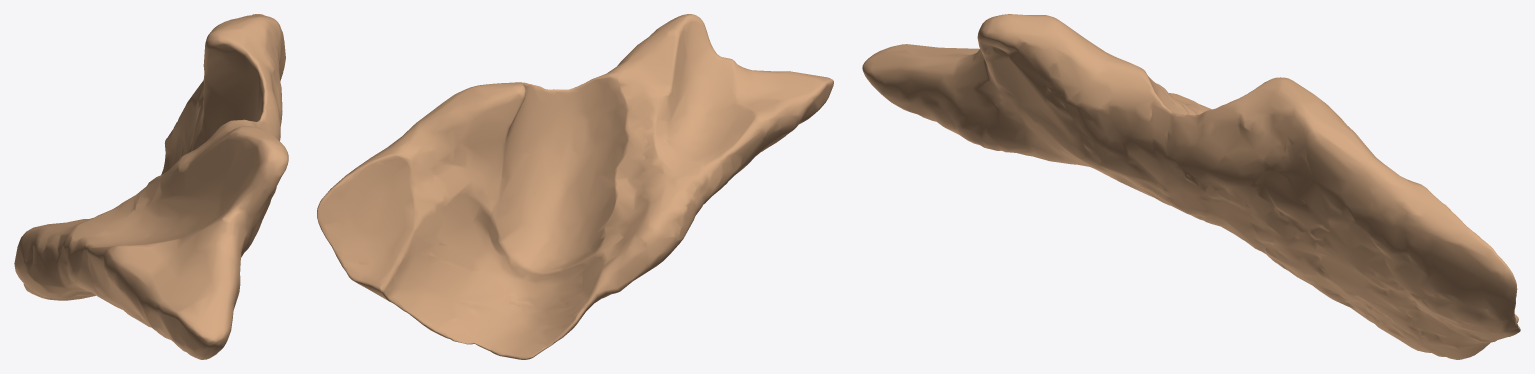
3 views of the same model, side by side, from view 1: azimuth 30°, elevation 25°; view 2: azimuth 150°, elevation 25°; view 3: azimuth 270°, elevation 25° (orthographic). The views are drawn at different scales.
Visible parts, largest first — view 1: 胸腺左叶; view 2: 胸腺左叶; view 3: 胸腺左叶.
Part boxes in pixels (x1,y1,x2,y2): 胸腺左叶: (14, 14, 288, 359); 胸腺左叶: (317, 14, 833, 359); 胸腺左叶: (862, 14, 1520, 359).
Bounding box in the file's own units: 0.0558 × 0.0431 × 0.0816.
